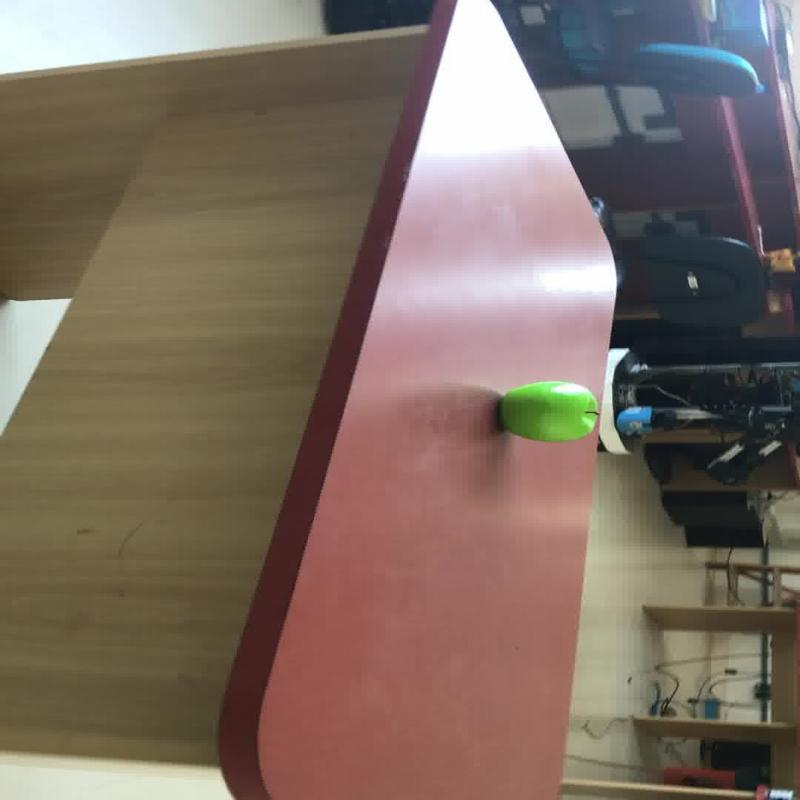apple: (496, 380, 598, 442)
